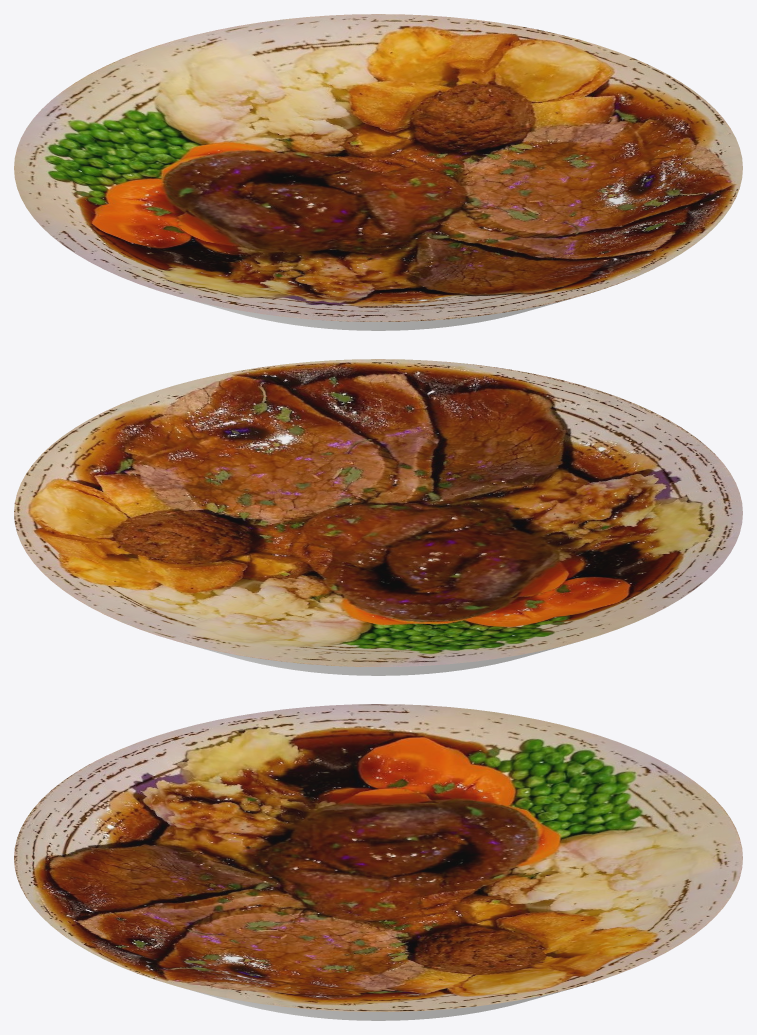
Rendered from asado.glb.
3 views of the same model, one above another, from view 1: azimuth 30°, elevation 25°; view 2: azimuth 150°, elevation 25°; view 3: azimuth 270°, elevation 25° (orthographic).
Visible parts, largest first — view 1: plato; view 2: plato; view 3: plato.
Part boxes in pixels (left/top/right/bottom): plato: left=14, top=14, right=742, bottom=330; plato: left=14, top=359, right=742, bottom=675; plato: left=14, top=704, right=742, bottom=1020.
Bounding box in the file's own units: 0.28 × 0.022 × 0.28.
Materials: 2 (1 with a texture image).
